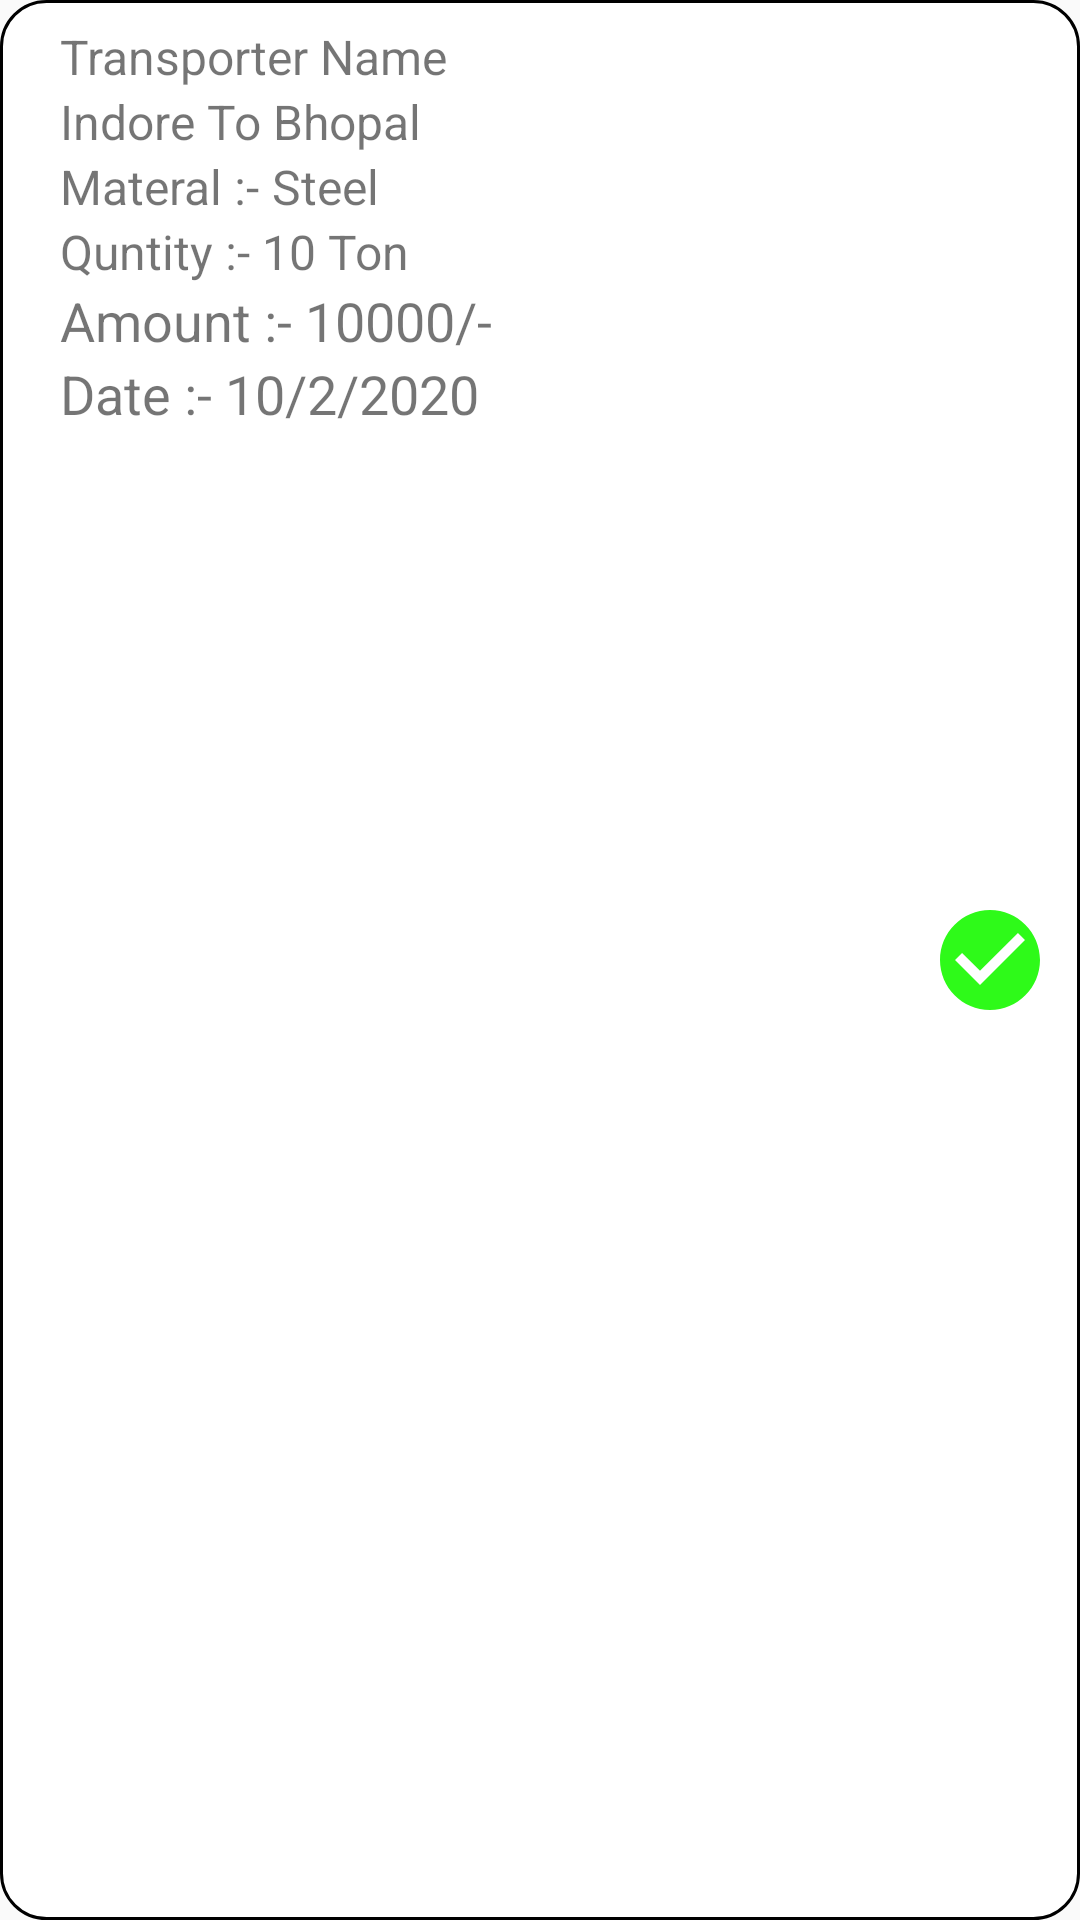

Screen size 1080x1920. Icon name, then its center in pixels as (x=x, y=y):
check circle: (x=990, y=960)
